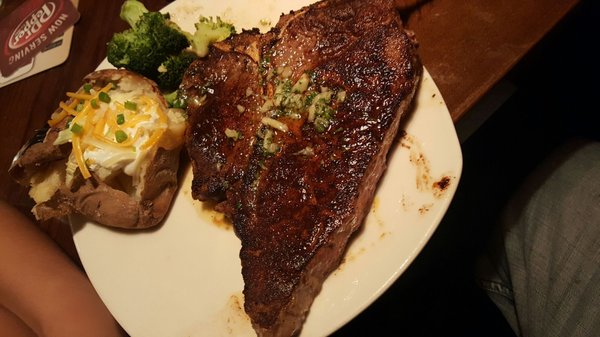curry: (106, 11, 197, 93)
